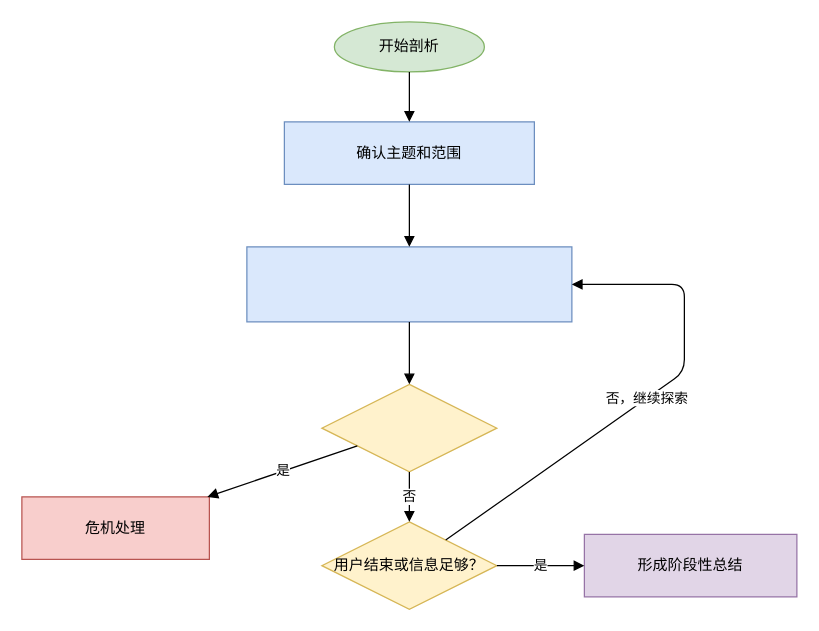
The diagram is 819 pixels wide and 631 high, and some of its shapes have lost their labels. Each missing label, with the centre of its shape:
"即时风险？" belongs at (409,427).
"逐层提问：事件、情绪、想法、需要、反应与代价" belongs at (409,284).
